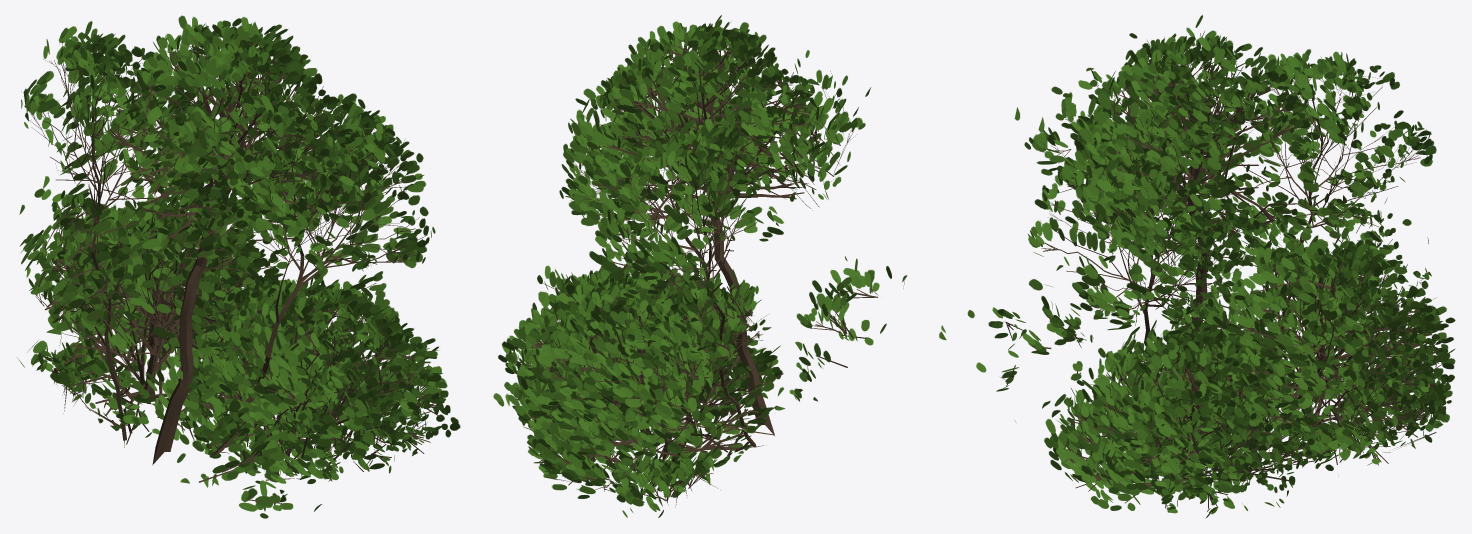
The picture shows the model from 3 angles, left to right: view 1: azimuth 30°, elevation 25°; view 2: azimuth 150°, elevation 25°; view 3: azimuth 270°, elevation 25°; orthographic projection. The views are drawn at different scales.
Visible parts, largest first — view 1: oak 01.001_trunk_Mat.001_0.506; view 2: oak 01.001_trunk_Mat.001_0.506; view 3: oak 01.001_trunk_Mat.001_0.506.
Part boxes in pixels (x1,y1,x2,y2): oak 01.001_trunk_Mat.001_0.506: (17, 15, 460, 518); oak 01.001_trunk_Mat.001_0.506: (493, 15, 906, 517); oak 01.001_trunk_Mat.001_0.506: (939, 15, 1455, 517).
Size of the model in its own units: 3.32 by 4.53 by 5.12.
Materials: 2 (1 with a texture image).
